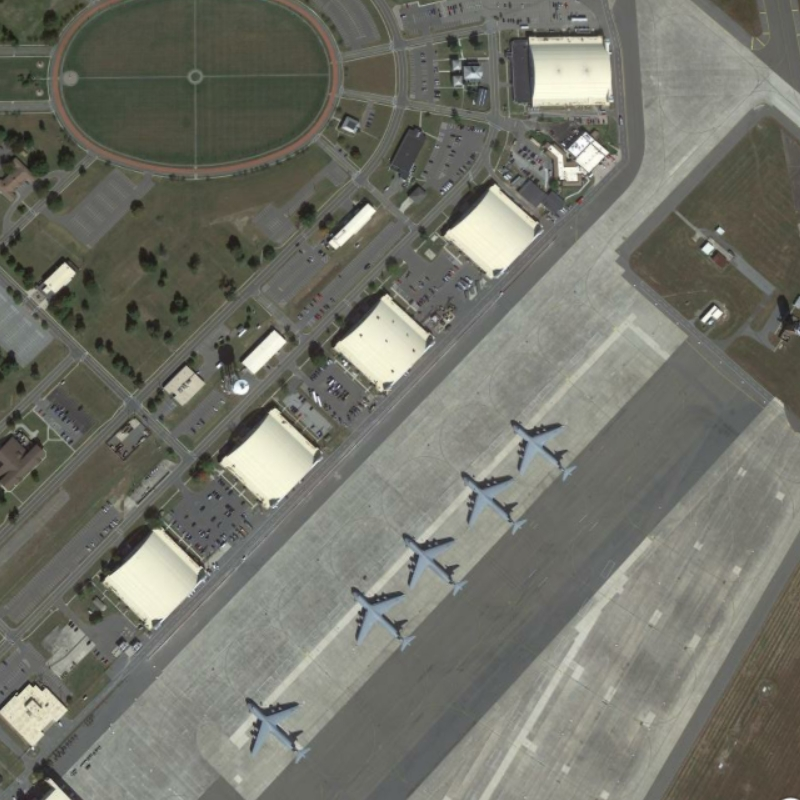A4: (343, 584, 419, 656), (506, 415, 582, 486), (242, 694, 315, 767), (458, 467, 531, 539), (399, 529, 471, 599)
